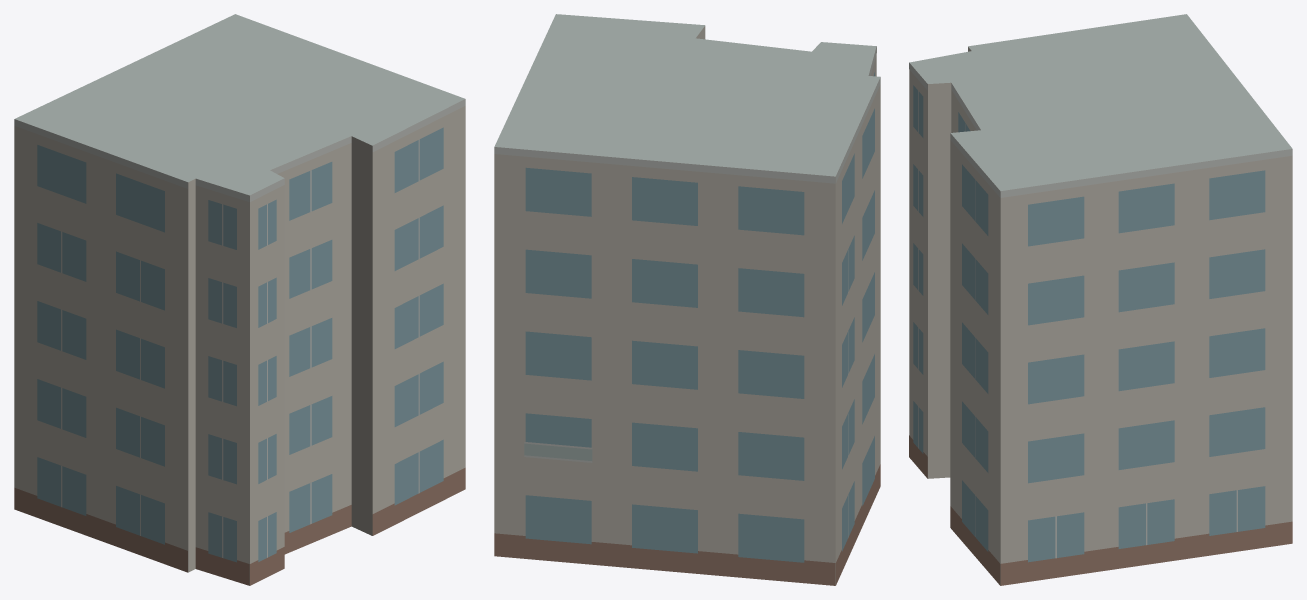
The model's file is survey-upis-32941638.glb.
3 views of the same model, side by side, from view 1: azimuth 30°, elevation 25°; view 2: azimuth 150°, elevation 25°; view 3: azimuth 270°, elevation 25° (orthographic). The views are drawn at different scales.
Parts seen in each view (by area): view 1: survey-upis-32941638.tmp; view 2: survey-upis-32941638.tmp; view 3: survey-upis-32941638.tmp.
Part boxes in pixels (bbox=[...]): survey-upis-32941638.tmp: bbox=[14, 14, 465, 585]; survey-upis-32941638.tmp: bbox=[494, 14, 880, 585]; survey-upis-32941638.tmp: bbox=[909, 14, 1292, 585].
Size of the model in its own units: 13.58 by 14.1 by 12.43.
